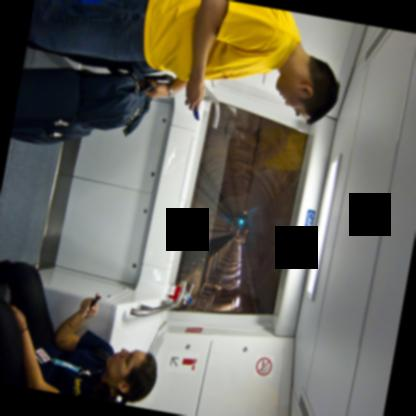handbag: (9, 66, 154, 147), (0, 281, 9, 303)
suitcase: (9, 66, 151, 145)
